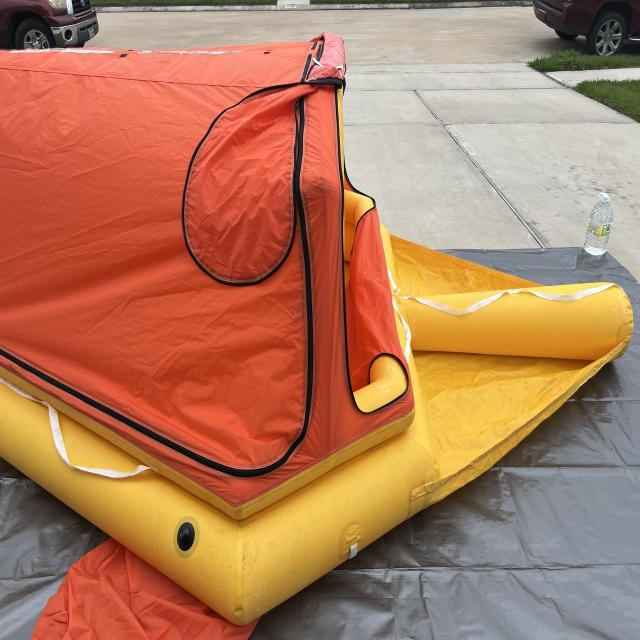Multi-person_life_raft: (0, 34, 634, 639)
